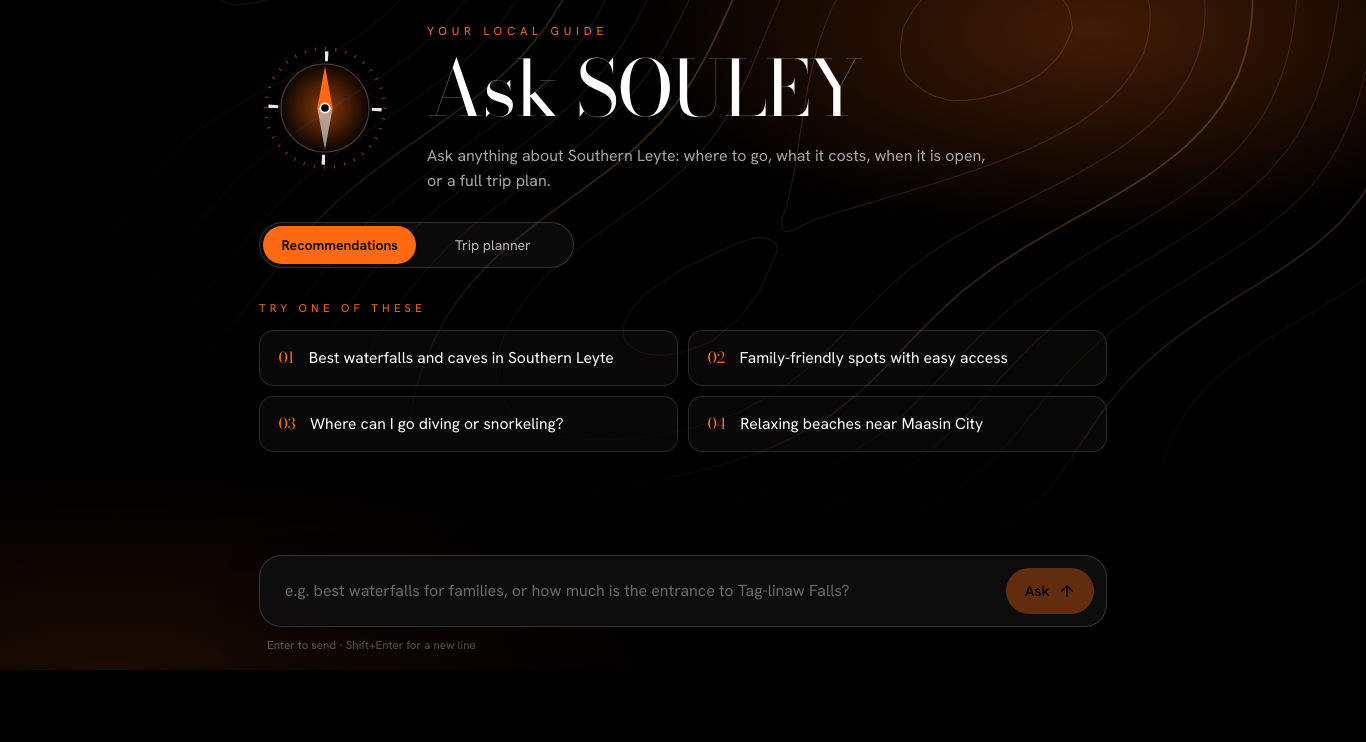
Test: Ask page › a typed follow-up carries the chat so far (last question, places shown); the first question carries none
The width and height of the screenshot is (1366, 742).
Later steps or results of the test are not shown.
Type "waterfalls" into the text box named "your question" at (633, 591), box [272,569,994,614]
Then press Enter
(page scrolled)
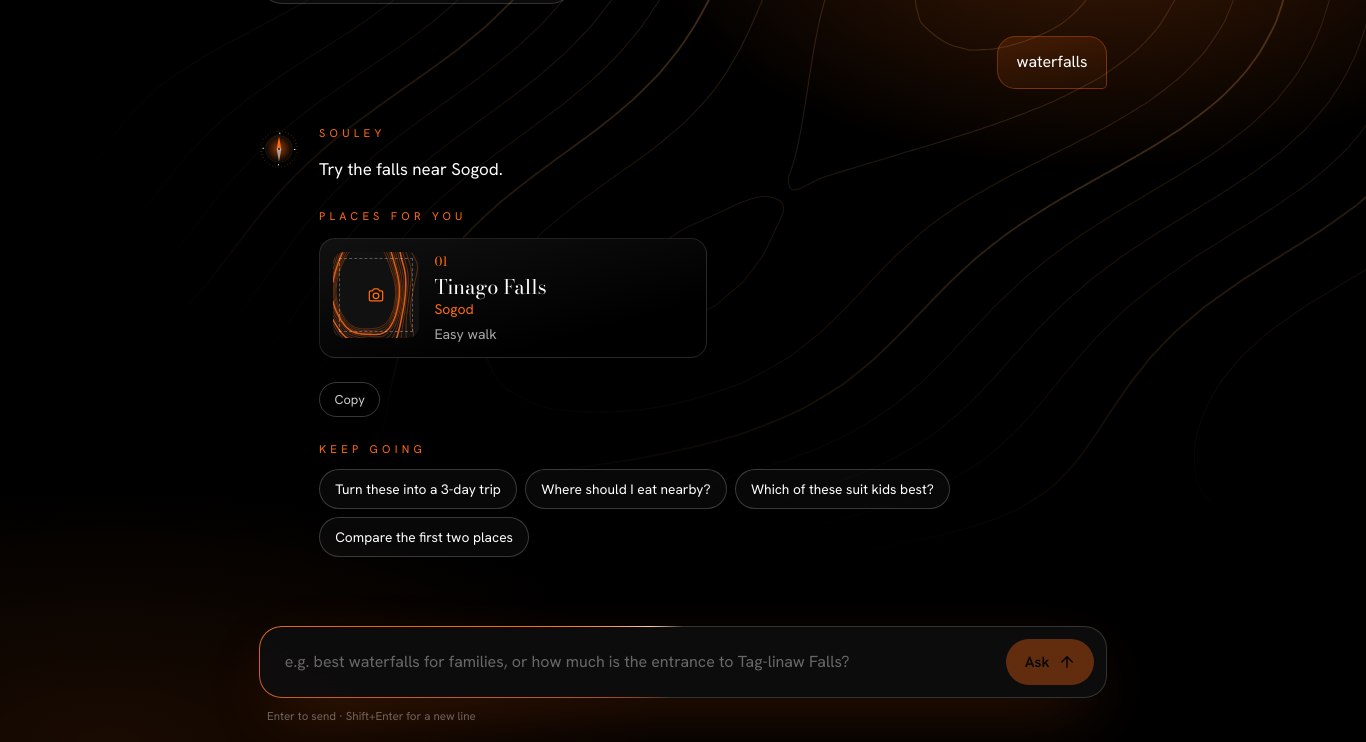
Result: the text "Try the falls near Sogod." is shown at [319,158,503,180]
